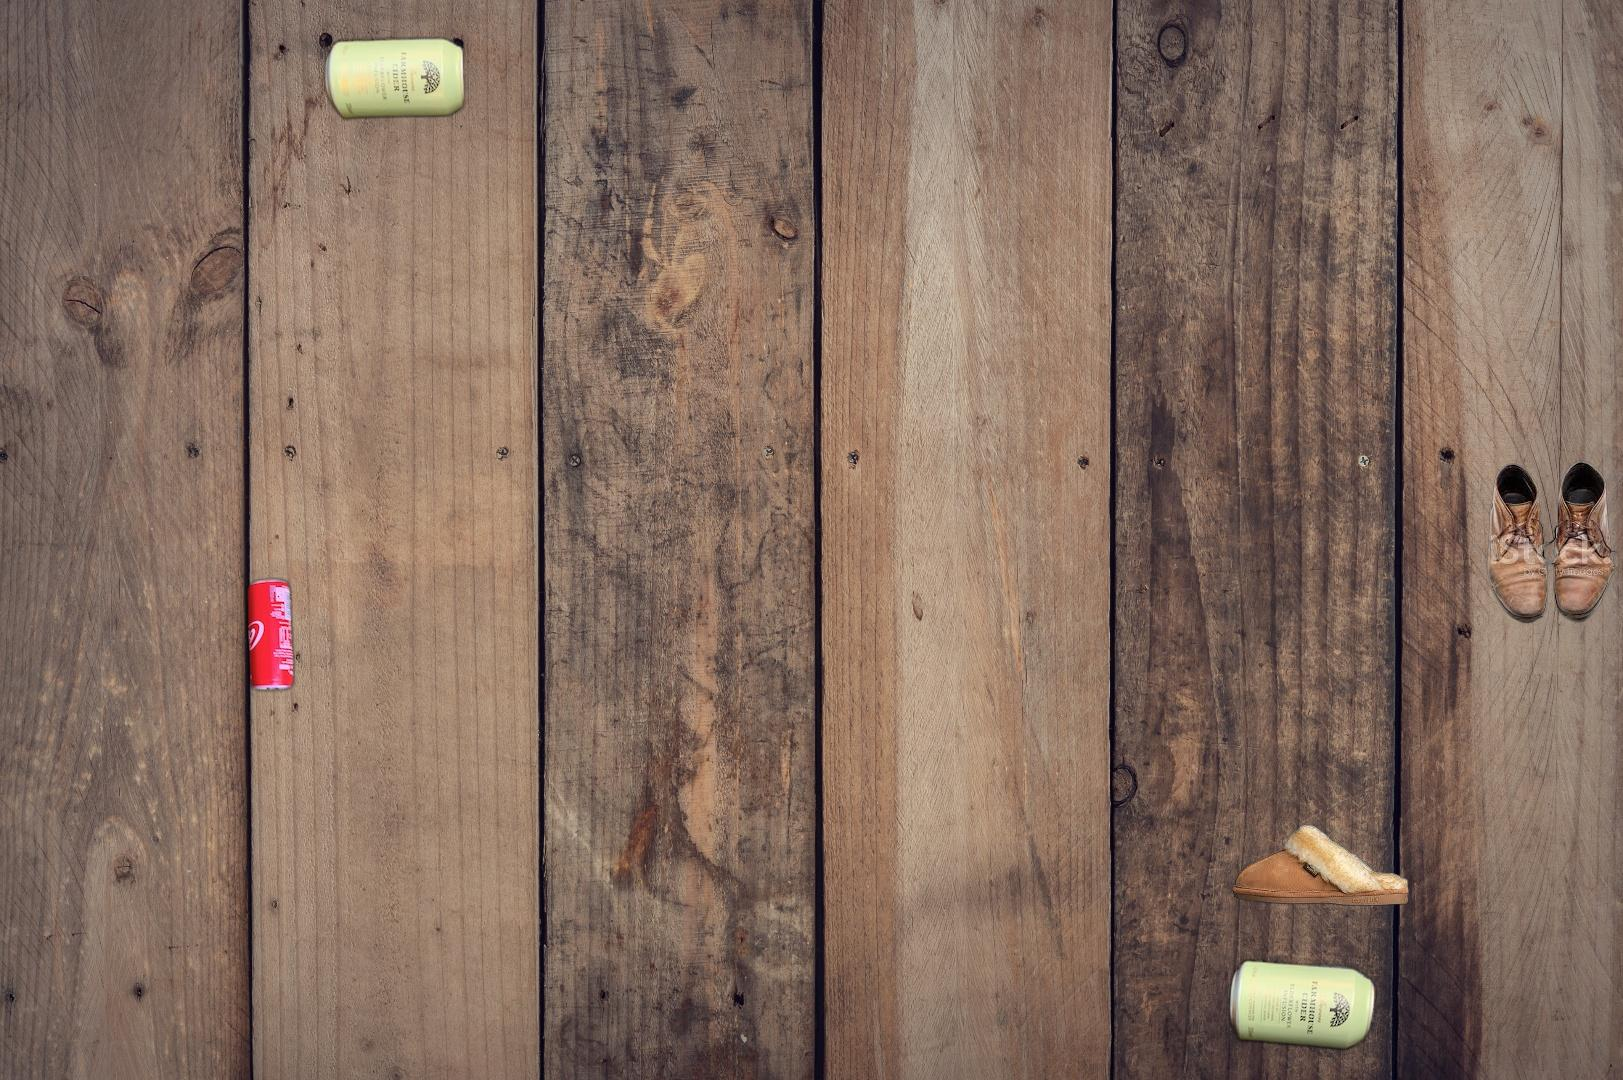metal-cans: (321, 31, 702, 491), (1224, 955, 1405, 1080), (243, 573, 298, 697)
shoes: (1484, 458, 1621, 626), (1229, 822, 1412, 909)
